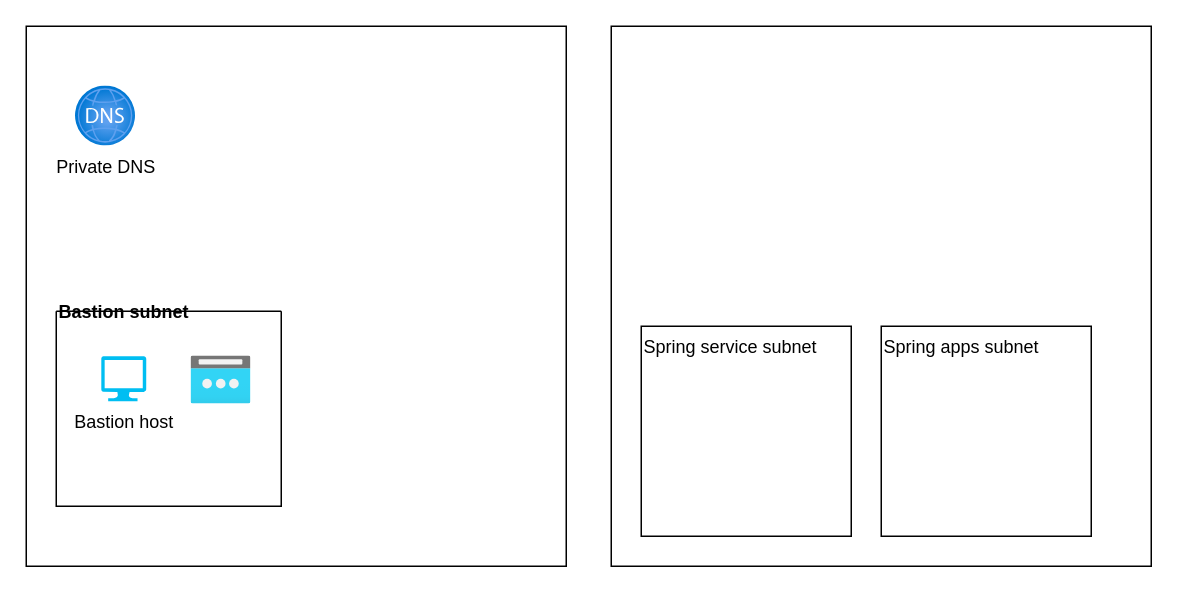
Some shapes in this 1178 by 593 pixel diagram are drawn without their labels. Here are the shapes that lost their labels. From the top down, the box of each, then its label:
(25, 25, 566, 566): Hub
(610, 25, 1151, 566): Spoke
(190, 356, 250, 404): public ip
